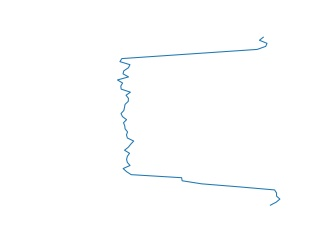distributaryChannelFill: (112, 37, 284, 206)
